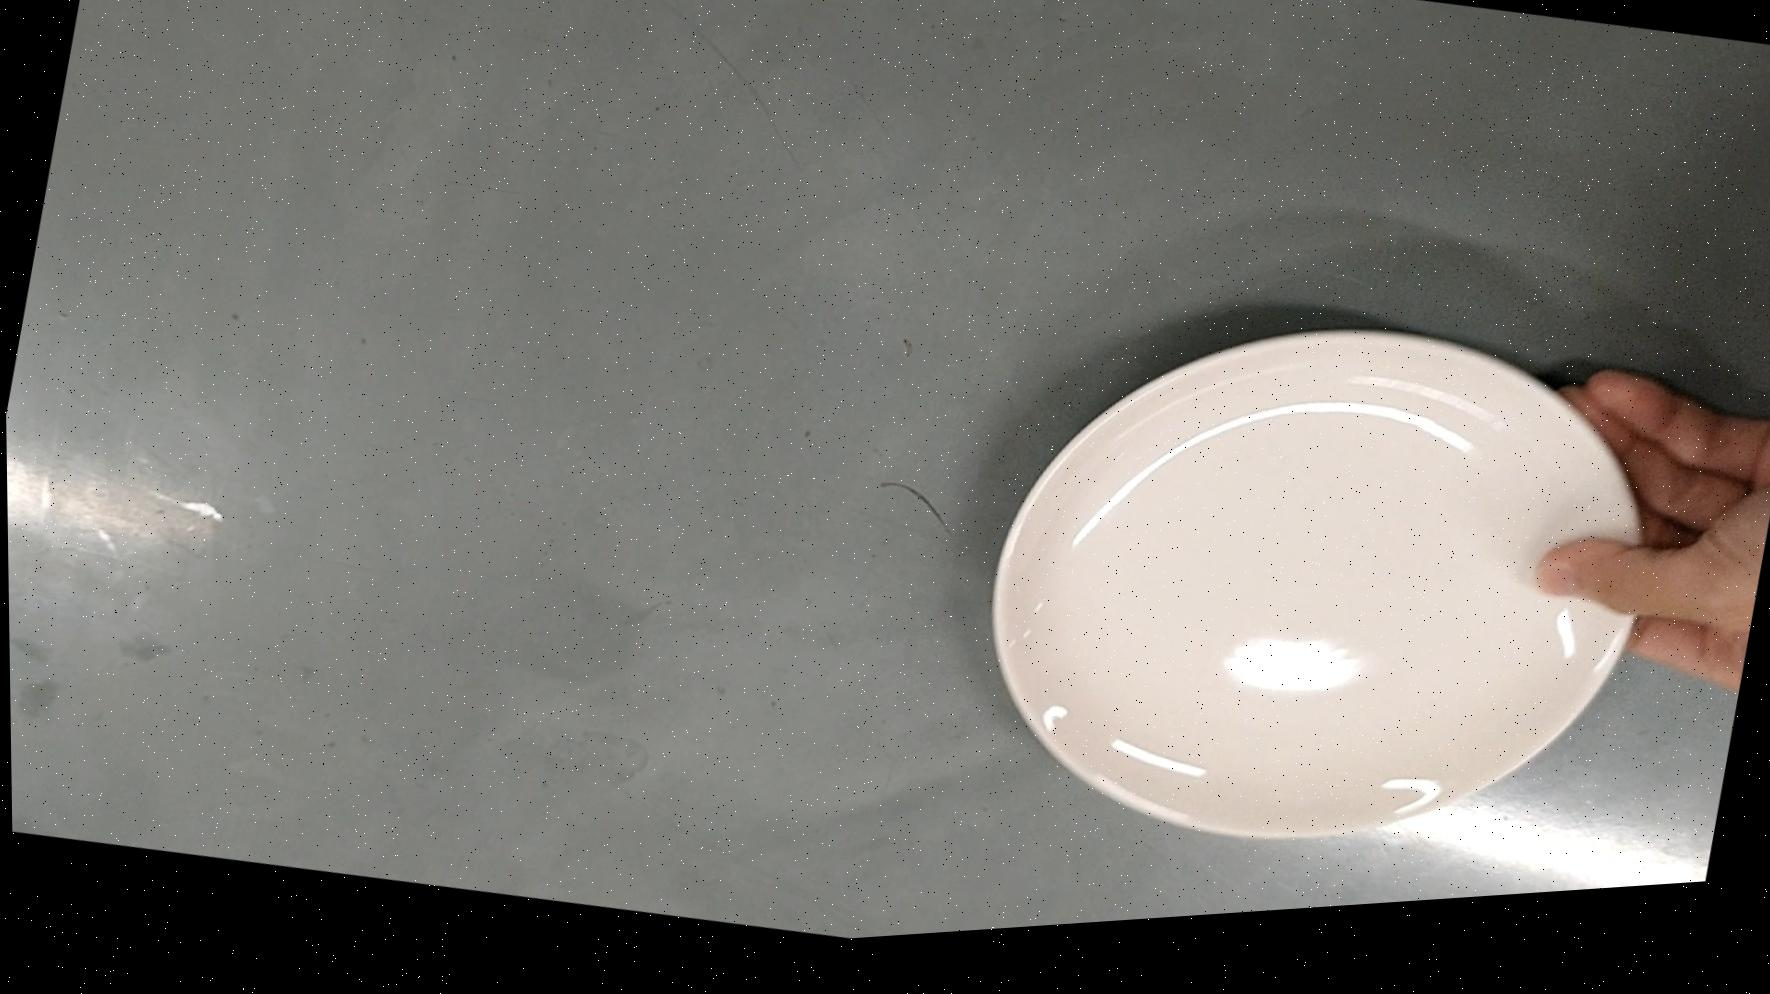plate: (949, 265, 1691, 936)
